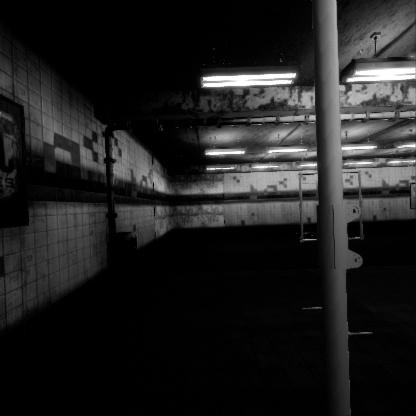gate: (298, 173, 368, 246)
